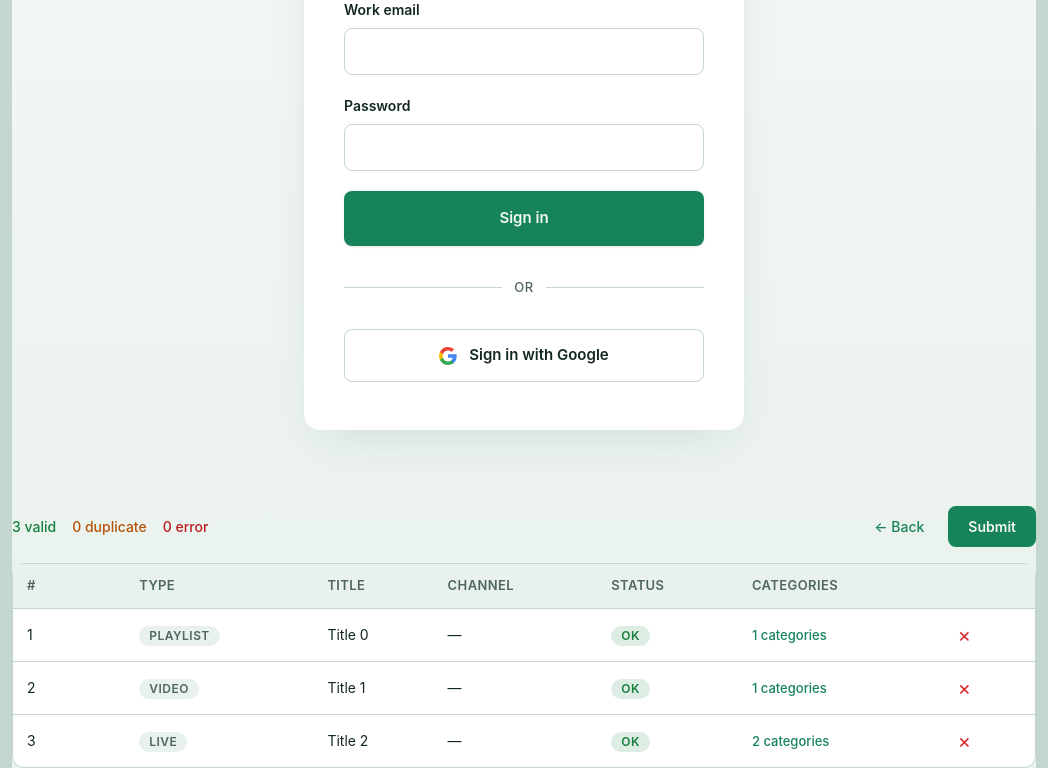
Test: BulkPreviewTable › a playlist row and a non-live video row do not count the LIVE default category (Cubic r9 #25)
The width and height of the screenshot is (1048, 768).
(page scrolled)
Expected: the button with class "bulk-categories-toggle" in the row of "PLAYLIST" reads "1 categories", [752,626,827,645]
Expected: the button with class "bulk-categories-toggle" reads "2 categories", [752,732,829,751]
# Nor does the non-live video row's editor offer it: submit would drop it.
Click the button with class "bulk-categories-toggle" in the row of "VIDEO" at (789, 689), box [752,679,827,698]
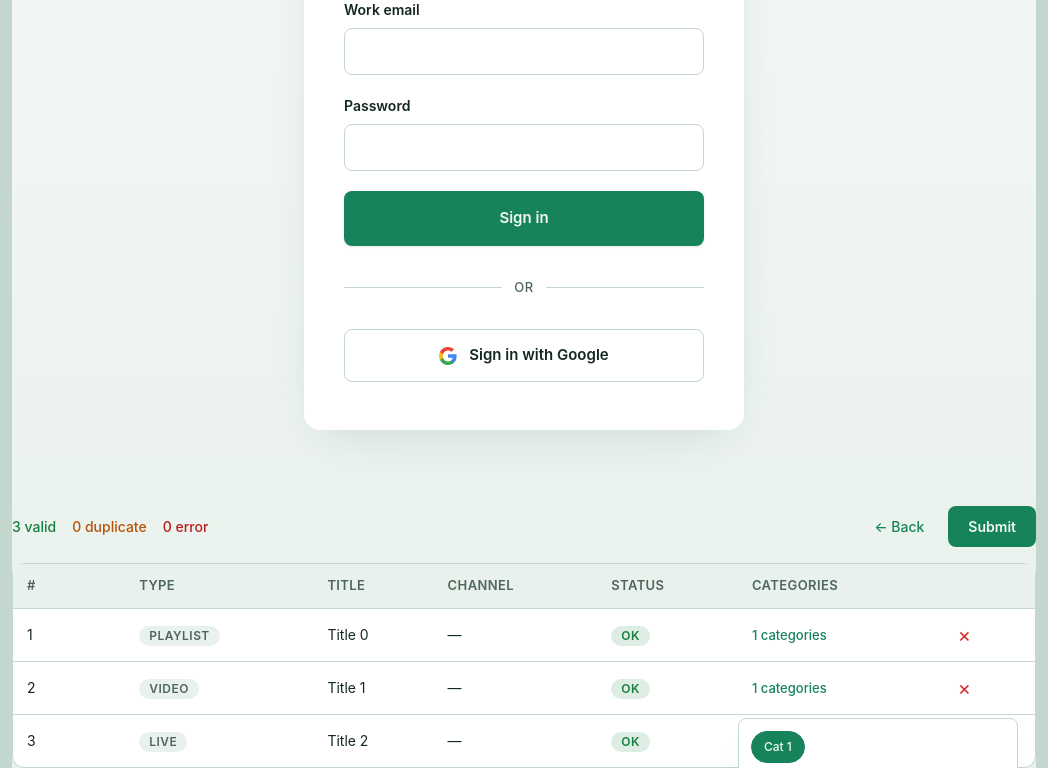
Expected: the elements with class "editor-chip" read "Cat 1", in this order, [751,730,805,762]
